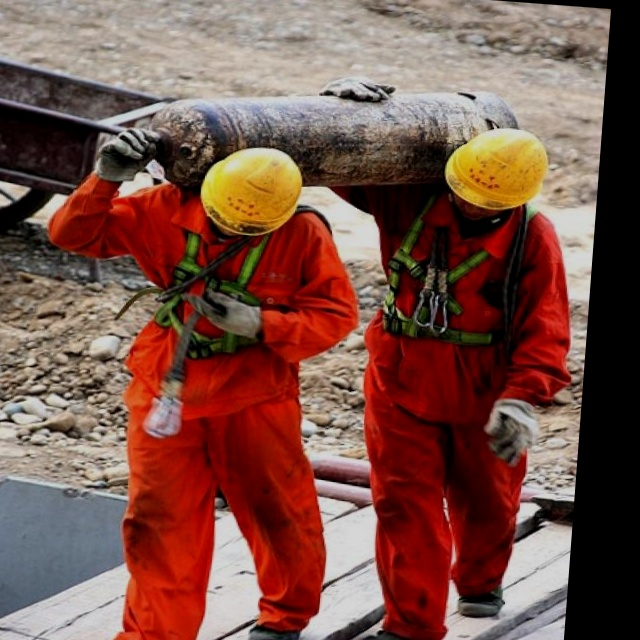Con_Chaleco: (364, 204, 566, 400), (120, 207, 317, 395)
